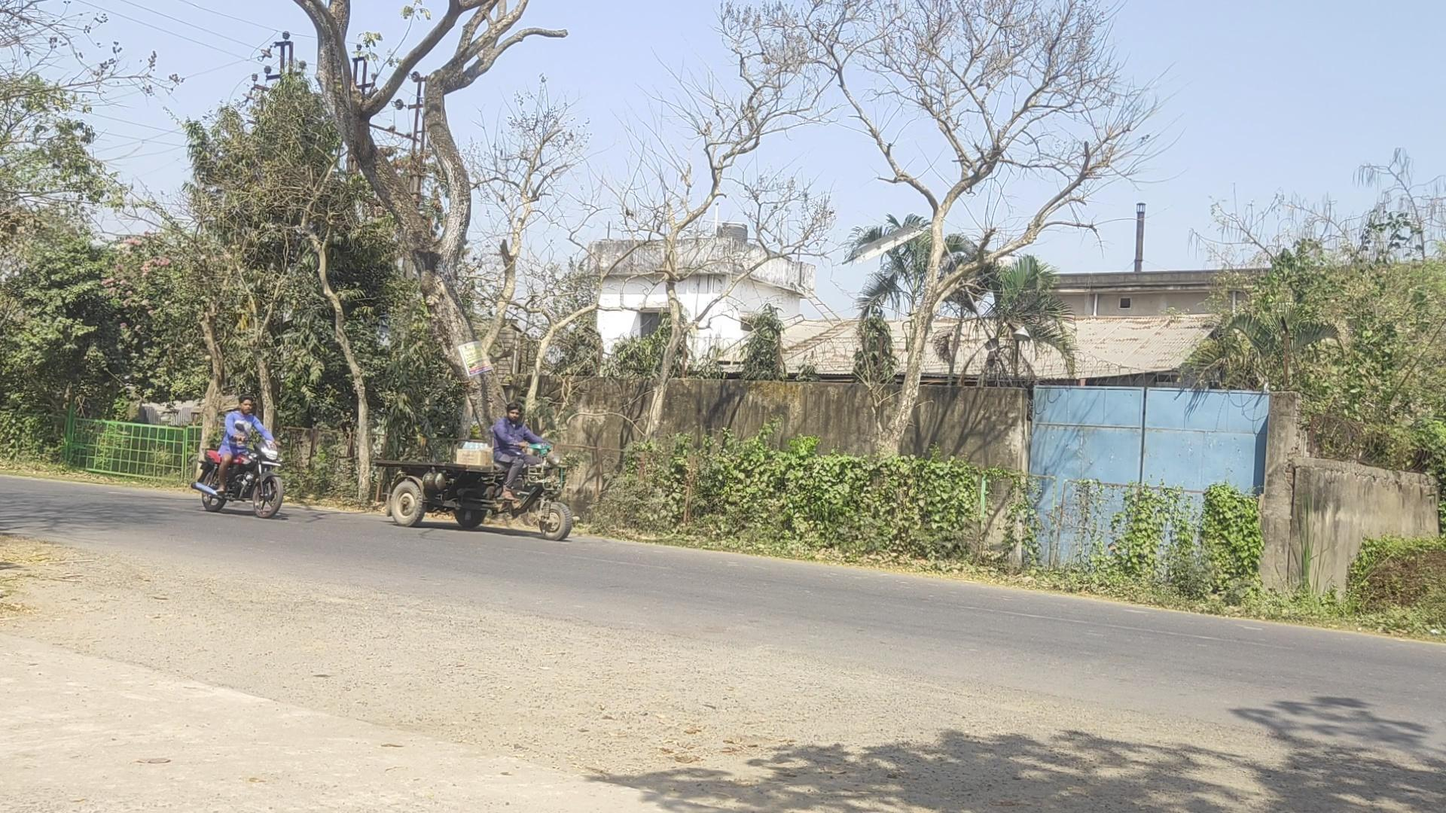bike: (191, 396, 285, 518)
